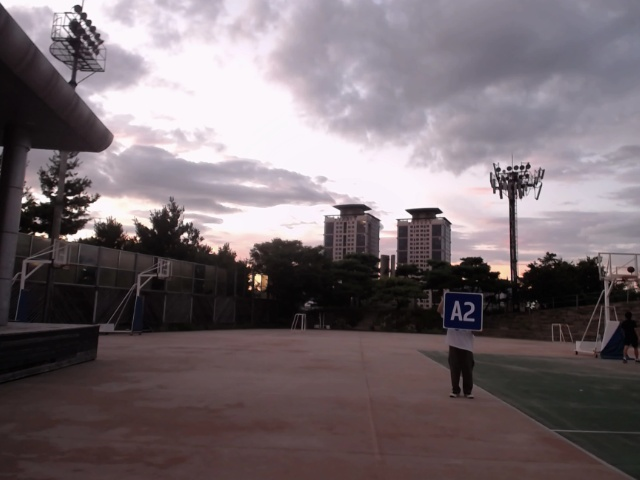delivery_a2: (443, 292, 484, 330)
